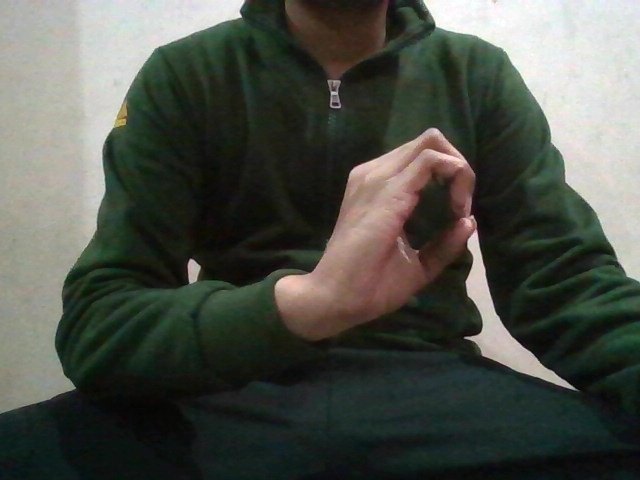O: (325, 124, 471, 321)
